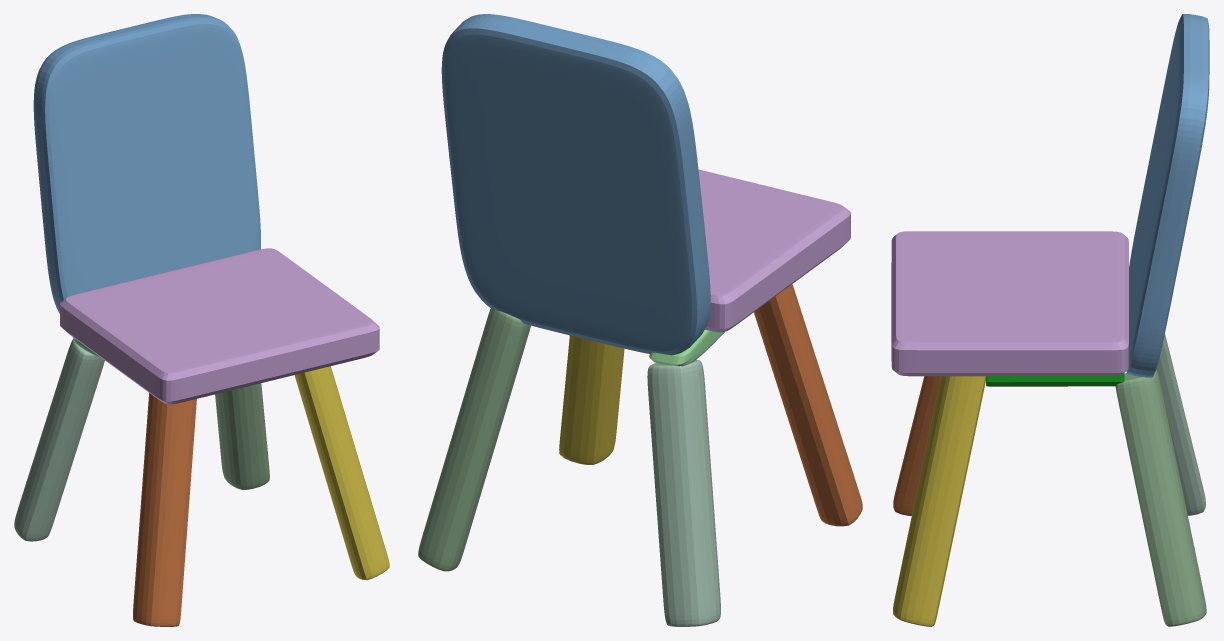
Rendered from chair_sq.glb.
3 renders of one model, left to right at view 1: azimuth 30°, elevation 25°; view 2: azimuth 150°, elevation 25°; view 3: azimuth 270°, elevation 25°, orthographic. The views are drawn at different scales.
Visible parts, largest first — view 1: sq_0, sq_1, sq_4, sq_3, sq_7, sq_2; view 2: sq_0, sq_1, sq_7, sq_2, sq_4, sq_3, sq_5; view 3: sq_1, sq_0, sq_3, sq_2, sq_7, sq_4, sq_6.
Part boxes in pixels (x1,y1,x2,y2): sq_0: [33, 14, 260, 313]; sq_1: [60, 248, 379, 404]; sq_4: [133, 393, 196, 626]; sq_3: [294, 366, 389, 580]; sq_7: [14, 339, 104, 541]; sq_2: [215, 383, 269, 489]; sq_0: [441, 14, 710, 355]; sq_1: [698, 169, 850, 332]; sq_7: [647, 359, 720, 626]; sq_2: [418, 308, 530, 571]; sq_4: [754, 284, 862, 526]; sq_3: [559, 335, 624, 464]; sq_5: [649, 329, 724, 366]; sq_1: [891, 231, 1128, 376]; sq_0: [1126, 14, 1209, 377]; sq_3: [893, 376, 985, 626]; sq_2: [1115, 370, 1206, 626]; sq_7: [1156, 334, 1205, 515]; sq_4: [893, 376, 940, 515]; sq_6: [986, 373, 1124, 386].
Bounding box in the file's own units: 0.9895 × 1.82 × 1.01.
